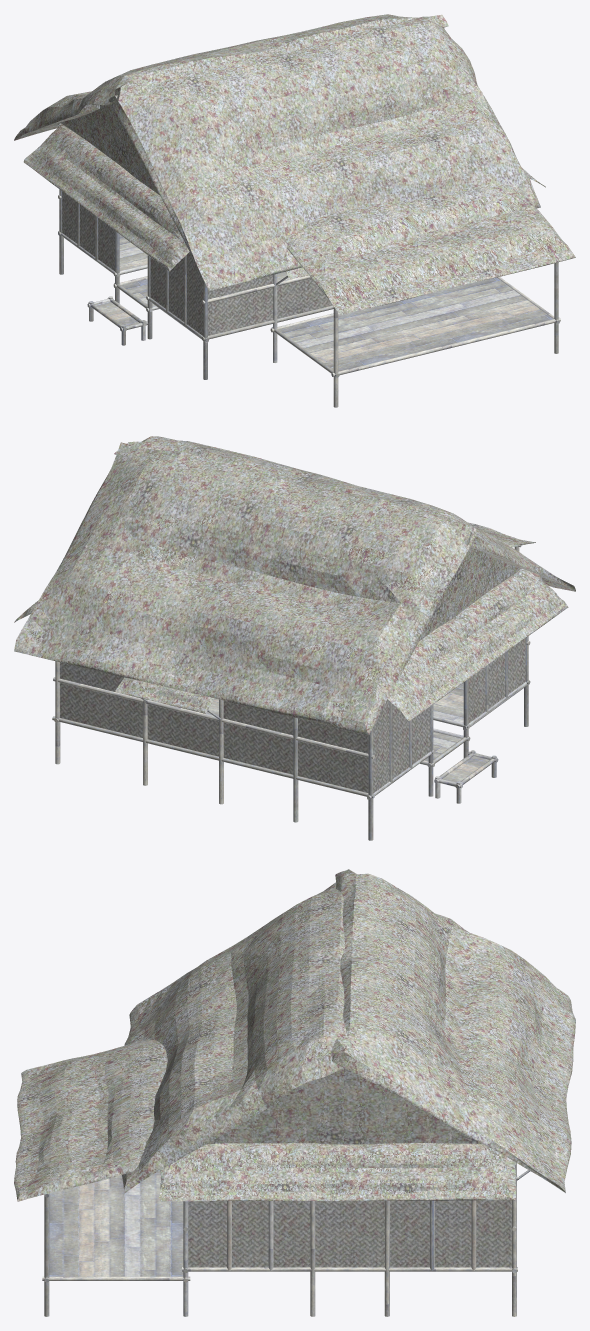
3 views of the same model, one above another, from view 1: azimuth 30°, elevation 25°; view 2: azimuth 150°, elevation 25°; view 3: azimuth 270°, elevation 25° (orthographic). The views are drawn at different scales.
Visible parts, largest first — view 1: Meshpart5, Meshpart7, Part53, Meshpart6, Meshpart4, Part40, Part35, Part60, Part59, Wedge1, Part18, Part17 (+10 smaller); view 2: Meshpart4, Meshpart6, Part105, Part104, Meshpart5, Part18, Part17, Part137, Part136, Wedge3, Part60, Part59 (+11 smaller); view 3: Meshpart4, Meshpart5, Part47, Part42, Meshpart1, Meshpart7, Part53, Wedge4, Wedge2, Union4, Part34, Part3 (+5 smaller).
Boxes of the visible parts, x1,y1,x2,y2 form: Meshpart5: [109, 15, 540, 290]; Meshpart7: [287, 185, 575, 314]; Part53: [278, 277, 552, 371]; Meshpart6: [23, 123, 189, 271]; Meshpart4: [14, 14, 448, 140]; Part40: [208, 278, 332, 335]; Part35: [208, 278, 332, 335]; Part60: [150, 252, 203, 335]; Part59: [150, 252, 203, 335]; Wedge1: [58, 104, 131, 174]; Part18: [62, 191, 114, 271]; Part17: [62, 192, 114, 270]; Meshpart4: [14, 442, 478, 735]; Meshpart6: [387, 568, 568, 721]; Part105: [59, 683, 368, 792]; Part104: [60, 683, 368, 792]; Meshpart5: [114, 436, 575, 591]; Part18: [373, 700, 430, 793]; Part17: [373, 700, 430, 792]; Part137: [223, 701, 368, 753]; Part136: [223, 701, 368, 753]; Wedge3: [446, 547, 521, 621]; Part60: [468, 638, 525, 723]; Part59: [468, 638, 525, 722]; Meshpart4: [332, 869, 575, 1192]; Meshpart5: [122, 882, 355, 1193]; Part47: [188, 1200, 511, 1267]; Part42: [188, 1200, 511, 1267]; Meshpart1: [158, 1143, 515, 1201]; Meshpart7: [14, 1039, 167, 1201]; Part53: [49, 1170, 183, 1276]; Wedge4: [206, 1068, 343, 1144]; Wedge2: [344, 1068, 481, 1144]; Union4: [227, 1200, 476, 1270]; Part34: [182, 1267, 517, 1271]; Part3: [44, 1193, 49, 1316].
Bounding box in the file's own units: 31.76 × 20.48 × 36.67.
8 materials, 8 textured.
